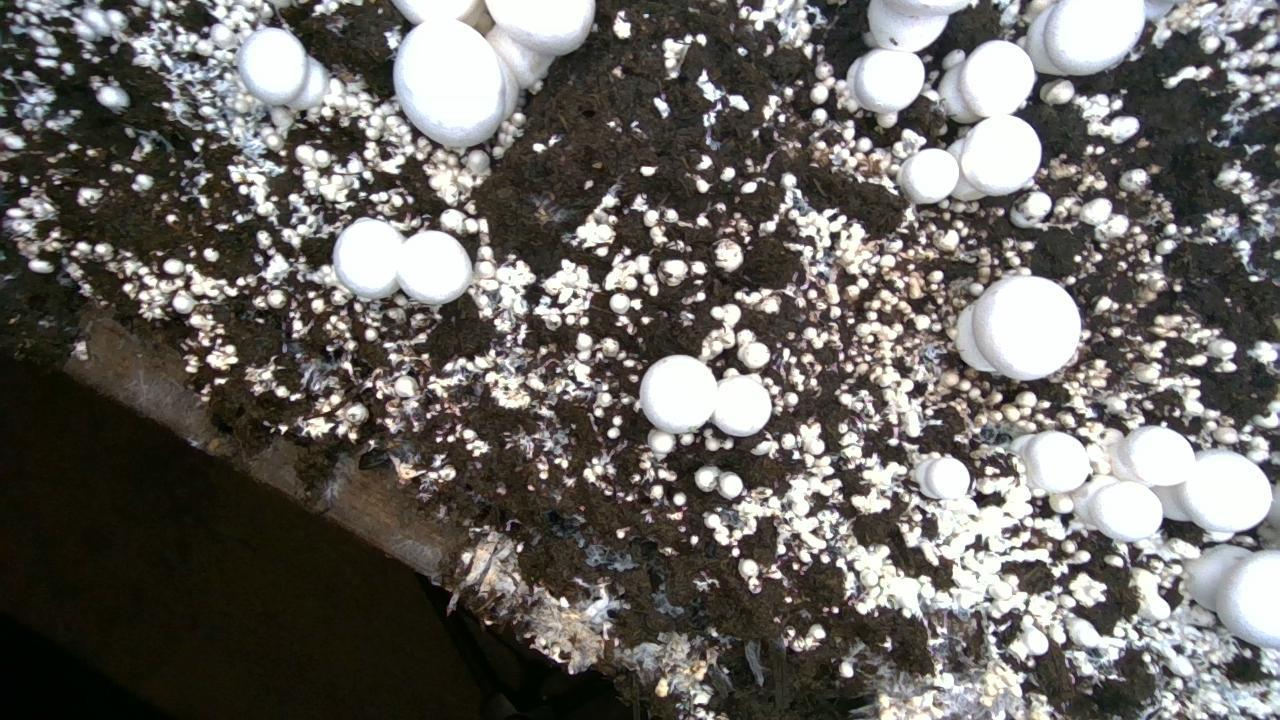WB: (393, 19, 504, 148), (974, 275, 1083, 380), (1178, 450, 1271, 532), (1043, 0, 1144, 75), (959, 115, 1041, 195), (1216, 550, 1279, 648), (847, 49, 924, 127), (486, 0, 594, 55), (640, 355, 716, 433), (959, 40, 1035, 117), (397, 230, 472, 305), (333, 218, 402, 298), (238, 28, 307, 104), (868, 0, 969, 51), (1110, 426, 1195, 485), (1090, 481, 1162, 541), (1022, 430, 1089, 492), (712, 375, 771, 436), (896, 149, 959, 203), (926, 457, 972, 500)
